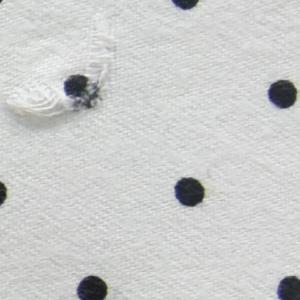Damage: (3, 14, 124, 126)
